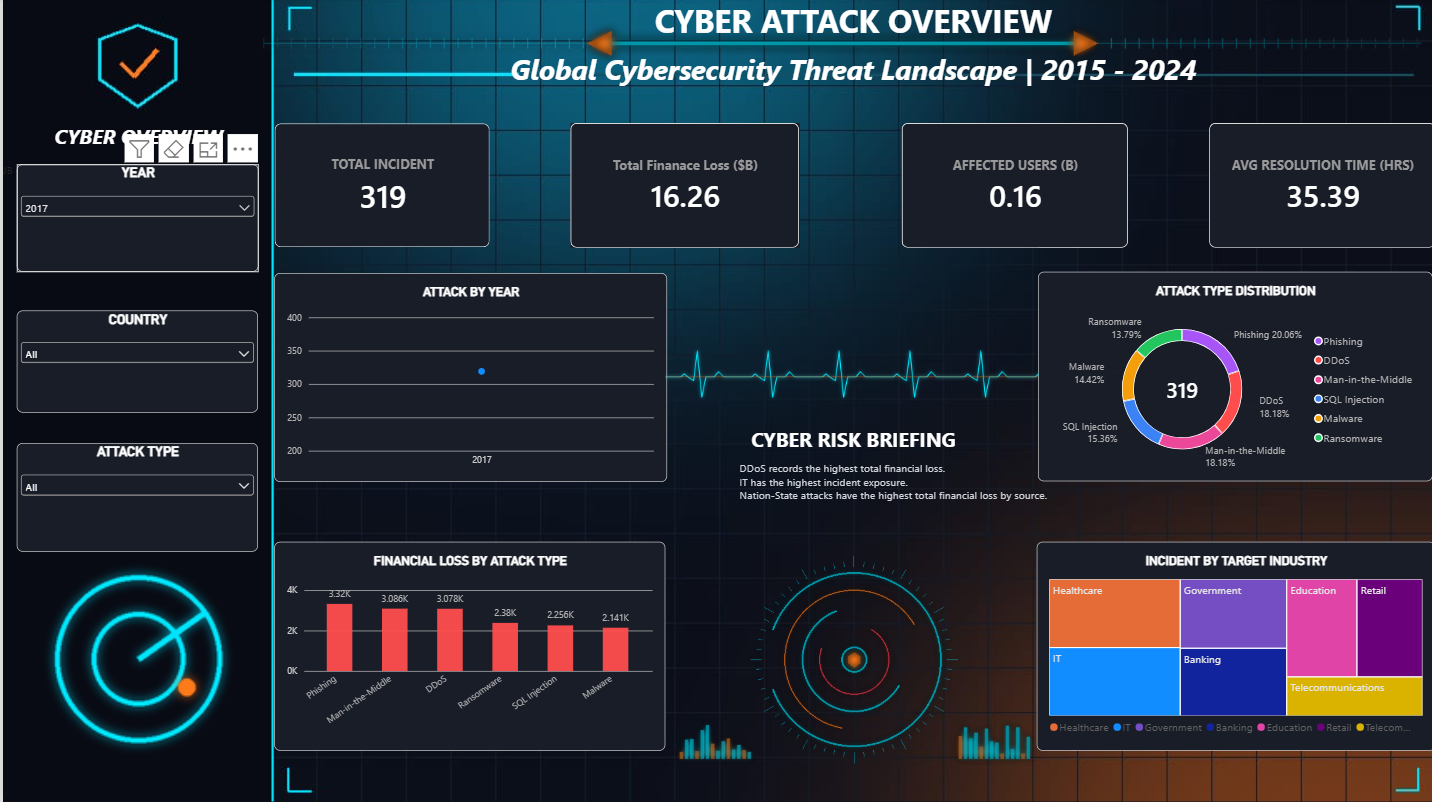

The page's visual inventory and layout, read from the dashboard file:
{"tool":"powerbi","page":{"name":"Cyber Attack Overview","canvas":[1920,1080],"ordinal":0},"visuals":[{"type":"textbox","box":[0,93.3,363.3,986.7],"z":0},{"type":"cardVisual","title":"TOTAL INCIDENT","fields":{"Data":["CountNonNull(Global_Cybersecurity_Threats_2015-2024.Country)"]},"box":[364,168,289.5,167.4],"z":1000},{"type":"cardVisual","fields":{"Data":["Global_Cybersecurity_Threats_2015-2024.Total Finanace Loss ($B)"]},"box":[760,168,307,167.4],"z":2000},{"type":"cardVisual","fields":{"Data":["Global_Cybersecurity_Threats_2015-2024.Total Affected Users (B)"]},"box":[1204,168,303.5,167.4],"z":3000},{"type":"cardVisual","fields":{"Data":["Avg(Global_Cybersecurity_Threats_2015-2024.Incident Resolution Time (in Hours))"]},"box":[1616,168,303.5,167.4],"z":4000},{"type":"lineChart","title":"ATTACK BY YEAR","fields":{"Category":["Global_Cybersecurity_Threats_2015-2024.Year"],"Y":["CountNonNull(Global_Cybersecurity_Threats_2015-2024.Year)"]},"box":[364,368,526,280],"z":5000},{"type":"donutChart","title":"ATTACK TYPE DISTRIBUTION","fields":{"Category":["Global_Cybersecurity_Threats_2015-2024.Attack Type"],"Y":["CountNonNull(Global_Cybersecurity_Threats_2015-2024.Attack Type)"]},"box":[1387.2,367.5,528.4,281.2],"z":6000},{"type":"clusteredColumnChart","title":"FINANCIAL LOSS BY ATTACK TYPE","fields":{"Category":["Global_Cybersecurity_Threats_2015-2024.Attack Type"],"Y":["Sum(Global_Cybersecurity_Threats_2015-2024.Financial Loss (in Million $))"]},"box":[364,728,524,280],"z":7000},{"type":"treemap","title":"INCIDENT BY TARGET INDUSTRY","fields":{"Group":["Global_Cybersecurity_Threats_2015-2024.Target Industry"],"Values":["CountNonNull(Global_Cybersecurity_Threats_2015-2024.Target Industry)"]},"box":[1386,728,534,280],"z":8000},{"type":"textbox","box":[364,572,1552,48],"z":9000},{"type":"textbox","box":[362,620,1554,88],"z":10000},{"type":"slicer","title":"YEAR","fields":{"Values":["Global_Cybersecurity_Threats_2015-2024.Year"]},"box":[18.6,223.6,324,144],"z":11000},{"type":"slicer","title":"COUNTRY","fields":{"Values":["Global_Cybersecurity_Threats_2015-2024.Country"]},"box":[18.6,418.4,323.5,137.2],"z":12000},{"type":"slicer","title":"ATTACK TYPE","fields":{"Values":["Global_Cybersecurity_Threats_2015-2024.Attack Type"]},"box":[18.6,596.2,323.5,145.7],"z":13000},{"type":"textbox","box":[364,0,1552,70],"z":14000},{"type":"textbox","box":[364,70,1552,98],"z":15000},{"type":"image","box":[890,692,498,352],"z":16000},{"type":"image","box":[348,0,1552,120],"z":17000},{"type":"image","box":[0,742,362,286],"z":18000},{"type":"image","box":[887.5,367.5,499.6,281.2],"z":19000}]}

Visuals, with their boxes on the page's 1920x1080 design canvas (x1, y1, x2, y2). These are canvas units, not pixel positions in the 1432x802 screenshot, which may show the page scaled, cropped or inside an application window:
textbox: [0, 93, 363, 1080]
"TOTAL INCIDENT" cardVisual: [364, 168, 654, 335]
cardVisual - Global_Cybersecurity_Threats_2015-2024.Total Finanace Loss ($B): [760, 168, 1067, 335]
cardVisual - Global_Cybersecurity_Threats_2015-2024.Total Affected Users (B): [1204, 168, 1508, 335]
cardVisual - Avg(Global_Cybersecurity_Threats_2015-2024.Incident Resolution Time (in Hours)): [1616, 168, 1920, 335]
"ATTACK BY YEAR" lineChart: [364, 368, 890, 648]
"ATTACK TYPE DISTRIBUTION" donutChart: [1387, 368, 1916, 649]
"FINANCIAL LOSS BY ATTACK TYPE" clusteredColumnChart: [364, 728, 888, 1008]
"INCIDENT BY TARGET INDUSTRY" treemap: [1386, 728, 1920, 1008]
textbox: [364, 572, 1916, 620]
textbox: [362, 620, 1916, 708]
"YEAR" slicer: [19, 224, 343, 368]
"COUNTRY" slicer: [19, 418, 342, 556]
"ATTACK TYPE" slicer: [19, 596, 342, 742]
textbox: [364, 0, 1916, 70]
textbox: [364, 70, 1916, 168]
image: [890, 692, 1388, 1044]
image: [348, 0, 1900, 120]
image: [0, 742, 362, 1028]
image: [888, 368, 1387, 649]
